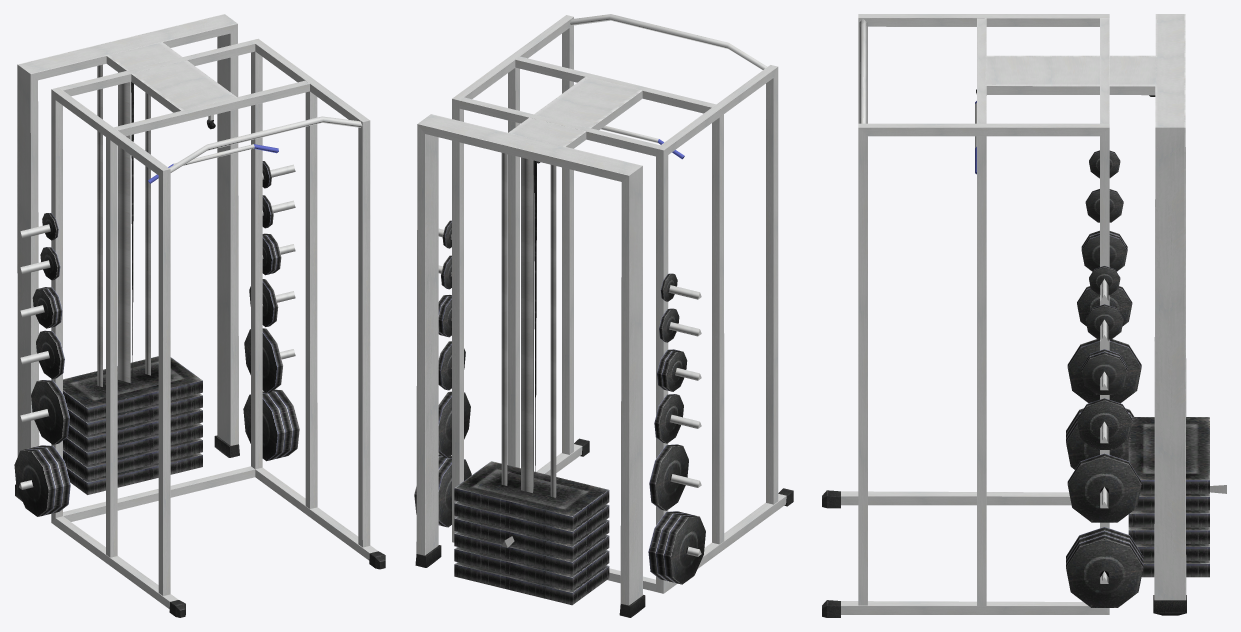
File: M_Home_Garden_Fitnes06.fbx
3 views of the same model, side by side, from view 1: azimuth 30°, elevation 25°; view 2: azimuth 150°, elevation 25°; view 3: azimuth 270°, elevation 25° (orthographic). The views are drawn at different scales.
Visible parts, largest first — view 1: M_Home_Garden_Fitnes06; view 2: M_Home_Garden_Fitnes06; view 3: M_Home_Garden_Fitnes06.
Boxes of the visible parts, x1,y1,x2,y2 form: M_Home_Garden_Fitnes06: (14, 14, 385, 617); M_Home_Garden_Fitnes06: (414, 14, 793, 617); M_Home_Garden_Fitnes06: (822, 14, 1226, 617).
Size of the model in its own units: 132 by 207 by 151.
